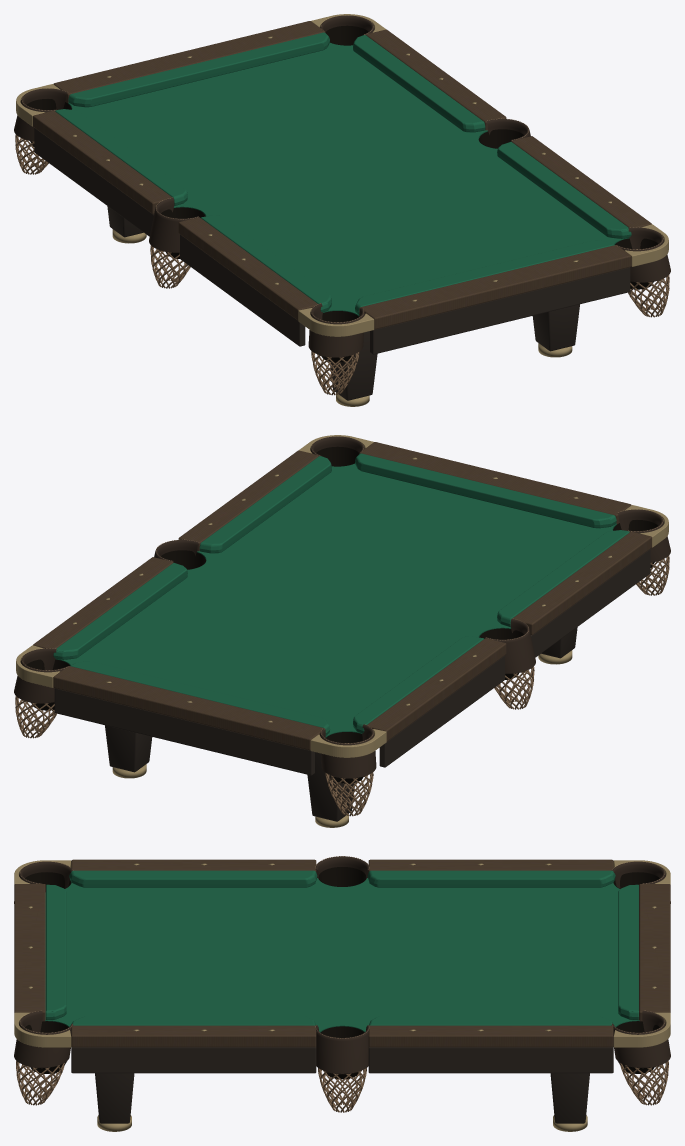
The model's file is billiards_table.glb.
3 renders of one model, top to bottom at view 1: azimuth 30°, elevation 25°; view 2: azimuth 150°, elevation 25°; view 3: azimuth 270°, elevation 25°, orthographic. The views are drawn at different scales.
Parts seen in each view (by area): view 1: Ref_Cloth, Ref_Wood_End_-1, Ref_Apron_End_-1, Ref_Cushion_End_1, Ref_Wood_End_1, Ref_Wood_Side_-1_1, Ref_Wood_Side_-1_-1, Ref_Apron_Side_-1_-1, Ref_Cushion_Side_1_-1, Ref_Cushion_Side_1_1, Ref_Apron_Side_-1_1, Ref_Cushion_End_-1 (+18 smaller); view 2: Ref_Cloth, Ref_Wood_End_1, Ref_Apron_End_1, Ref_Cushion_End_-1, Ref_Wood_End_-1, Ref_Wood_Side_-1_-1, Ref_Wood_Side_-1_1, Ref_Apron_Side_-1_1, Ref_Cushion_Side_1_1, Ref_Cushion_Side_1_-1, Ref_Apron_Side_-1_-1, Ref_Cushion_End_1 (+18 smaller); view 3: Ref_Cloth, Ref_Apron_Side_1_1, Ref_Apron_Side_1_-1, Ref_Wood_Side_1_1, Ref_Wood_Side_1_-1, Ref_Cushion_Side_-1_1, Ref_Cushion_Side_-1_-1, Ref_Wood_End_1, Ref_Wood_End_-1, Ref_Wood_Side_-1_1, Ref_Wood_Side_-1_-1, Ref_Cushion_End_1 (+19 smaller).
Boxes of the visible parts, x1=… form: Ref_Cloth: x1=68, y1=42, x2=629, y2=316; Ref_Wood_End_-1: x1=359, y1=245, x2=631, y2=329; Ref_Apron_End_-1: x1=370, y1=267, x2=630, y2=354; Ref_Cushion_End_1: x1=68, y1=32, x2=329, y2=107; Ref_Wood_End_1: x1=53, y1=21, x2=325, y2=103; Ref_Wood_Side_-1_1: x1=33, y1=110, x2=172, y2=214; Ref_Wood_Side_-1_-1: x1=178, y1=217, x2=317, y2=320; Ref_Apron_Side_-1_-1: x1=180, y1=234, x2=305, y2=346; Ref_Cushion_Side_1_-1: x1=497, y1=142, x2=631, y2=238; Ref_Cushion_Side_1_1: x1=353, y1=35, x2=485, y2=132; Ref_Apron_Side_-1_1: x1=34, y1=128, x2=153, y2=236; Ref_Cushion_End_-1: x1=355, y1=240, x2=614, y2=314; Ref_Cloth: x1=55, y1=463, x2=616, y2=737; Ref_Wood_End_1: x1=53, y1=666, x2=325, y2=750; Ref_Apron_End_1: x1=54, y1=688, x2=314, y2=775; Ref_Cushion_End_-1: x1=355, y1=453, x2=616, y2=528; Ref_Wood_End_-1: x1=359, y1=442, x2=631, y2=524; Ref_Wood_Side_-1_-1: x1=512, y1=531, x2=651, y2=635; Ref_Wood_Side_-1_1: x1=367, y1=638, x2=506, y2=741; Ref_Apron_Side_-1_1: x1=379, y1=655, x2=504, y2=767; Ref_Cushion_Side_1_1: x1=53, y1=563, x2=187, y2=659; Ref_Cushion_Side_1_-1: x1=199, y1=456, x2=331, y2=553; Ref_Apron_Side_-1_-1: x1=531, y1=549, x2=650, y2=657; Ref_Cushion_End_1: x1=70, y1=661, x2=329, y2=735; Ref_Cloth: x1=45, y1=878, x2=639, y2=1032; Ref_Apron_Side_1_1: x1=368, y1=1047, x2=613, y2=1073; Ref_Apron_Side_1_-1: x1=71, y1=1047, x2=316, y2=1073; Ref_Wood_Side_1_1: x1=368, y1=1025, x2=613, y2=1047; Ref_Wood_Side_1_-1: x1=71, y1=1025, x2=316, y2=1047; Ref_Cushion_Side_-1_1: x1=367, y1=870, x2=615, y2=887; Ref_Cushion_Side_-1_-1: x1=69, y1=870, x2=317, y2=887; Ref_Wood_End_1: x1=639, y1=884, x2=670, y2=1021; Ref_Wood_End_-1: x1=14, y1=884, x2=45, y2=1021; Ref_Wood_Side_-1_1: x1=368, y1=859, x2=613, y2=871; Ref_Wood_Side_-1_-1: x1=71, y1=859, x2=316, y2=871; Ref_Cushion_End_1: x1=618, y1=884, x2=638, y2=1019.
Bounding box in the file's own units: 8.25 × 2.58 × 12.11.
8 materials, 1 textured.
